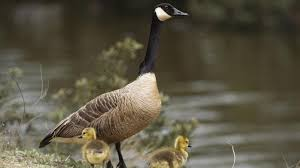goose: (37, 3, 193, 168)
